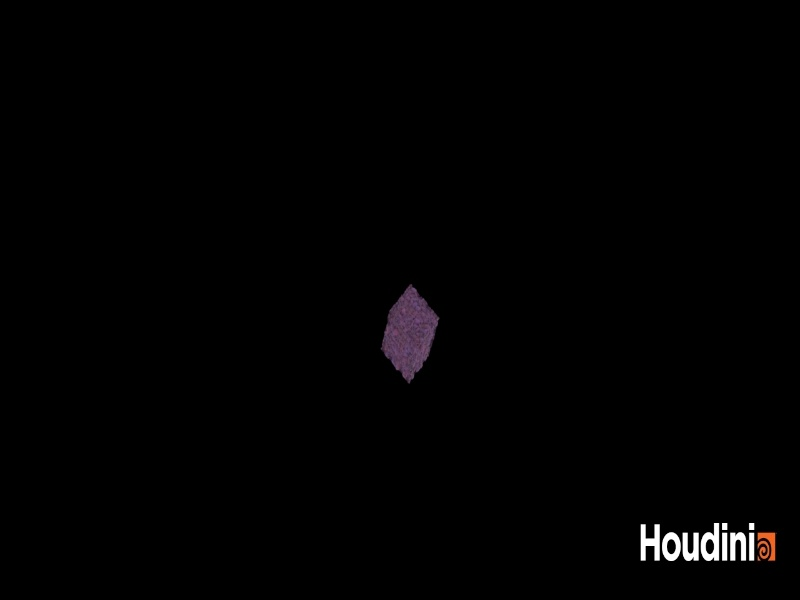waste: (374, 272, 444, 391)
